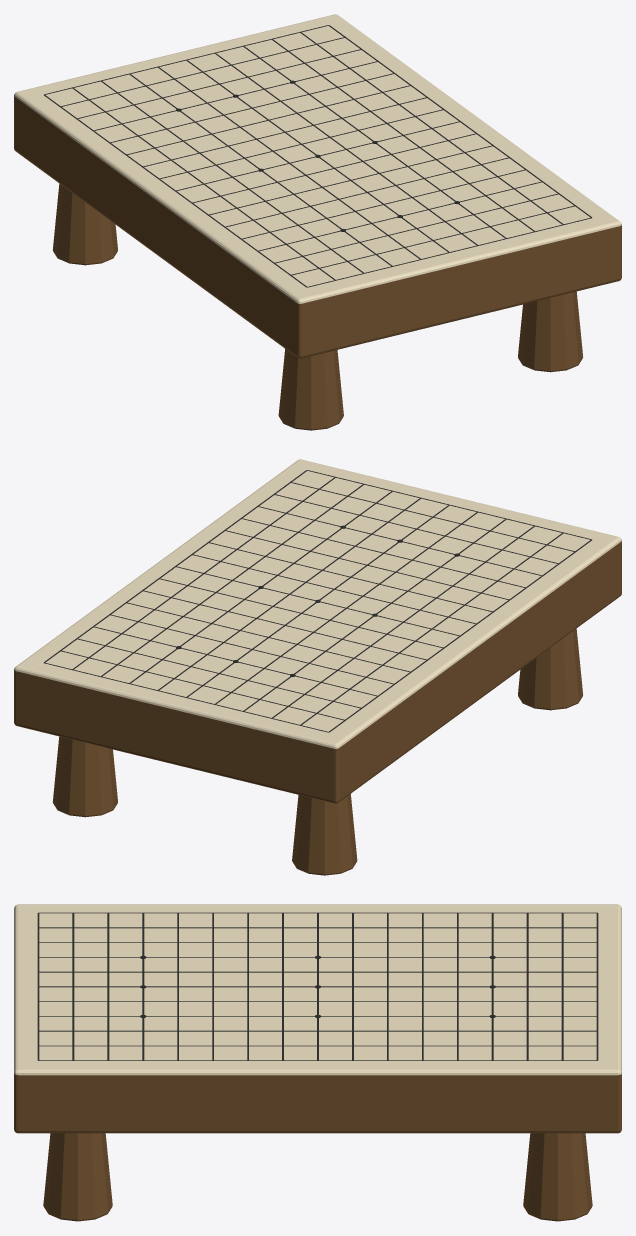
Rendered from board_default.glb.
3 renders of one model, top to bottom at view 1: azimuth 30°, elevation 25°; view 2: azimuth 150°, elevation 25°; view 3: azimuth 270°, elevation 25°, orthographic. The views are drawn at different scales.
Parts seen in each view (by area): view 1: board_default; view 2: board_default; view 3: board_default.
Part boxes in pixels (bbox=[...]): board_default: bbox=[14, 14, 621, 430]; board_default: bbox=[14, 459, 621, 875]; board_default: bbox=[14, 904, 621, 1221].
Size of the model in its own units: 0.342 by 0.1508 by 0.522.
